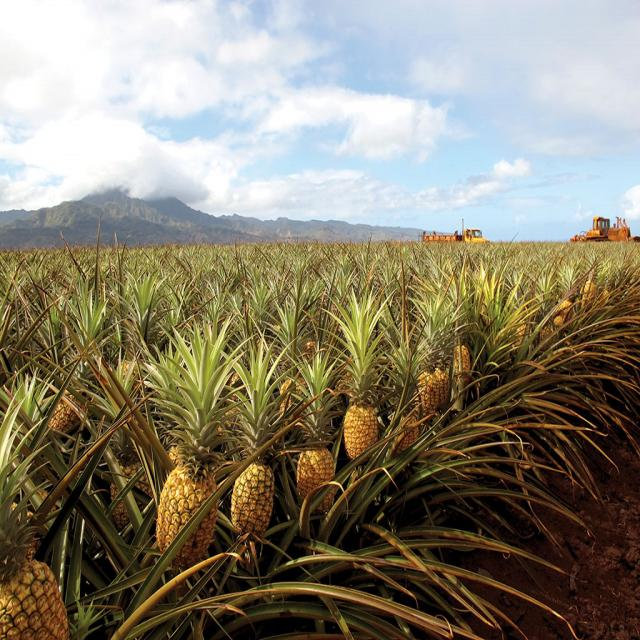Pineapple: (154, 439, 220, 568), (0, 531, 70, 640), (231, 440, 276, 540), (343, 377, 379, 461), (296, 424, 333, 502)
